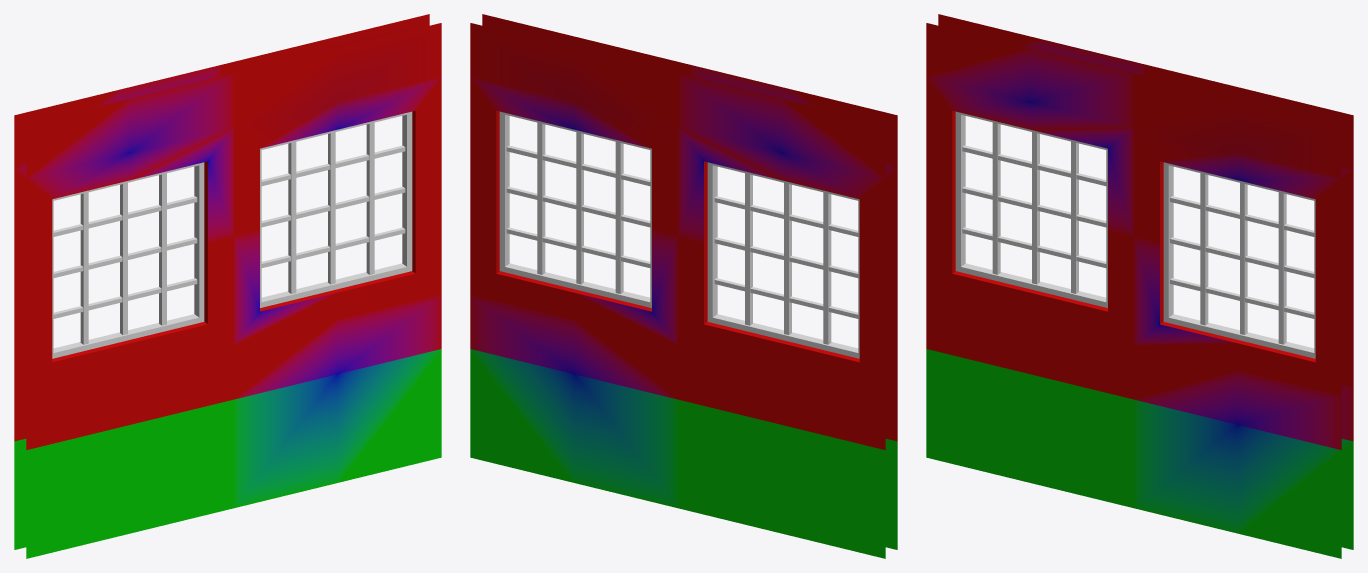
Rendered from WindowA_B_8x8.fbx.
The picture shows the model from 3 angles, left to right: view 1: azimuth 30°, elevation 25°; view 2: azimuth 150°, elevation 25°; view 3: azimuth 330°, elevation 25°; orthographic projection.
Visible parts, largest first — view 1: Plane, Plane.002; view 2: Plane, Plane.002; view 3: Plane, Plane.002.
Boxes of the visible parts, x1,y1,x2,y2 form: Plane: [14, 14, 441, 558]; Plane.002: [52, 111, 412, 358]; Plane: [470, 14, 897, 558]; Plane.002: [499, 111, 859, 358]; Plane: [926, 14, 1353, 558]; Plane.002: [955, 111, 1315, 358].
Bounding box in the file's own units: 800 × 800 × 40.
